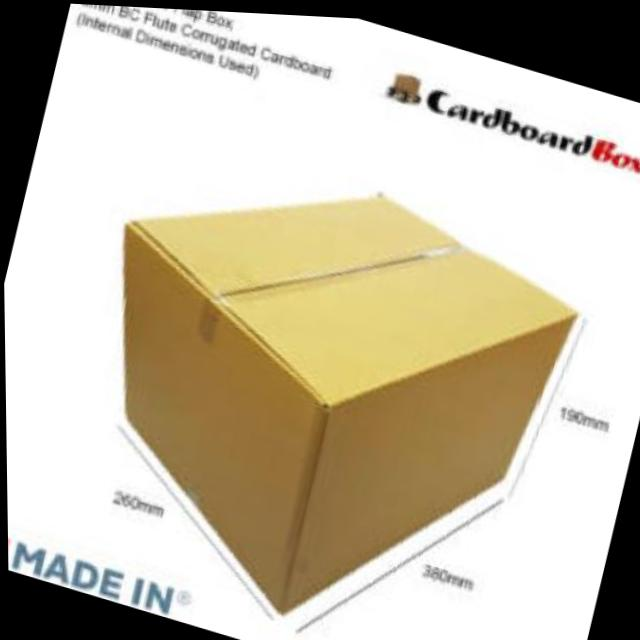box: (20, 105, 615, 640)
